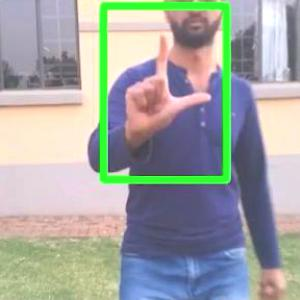land_hand: (116, 26, 214, 149)
